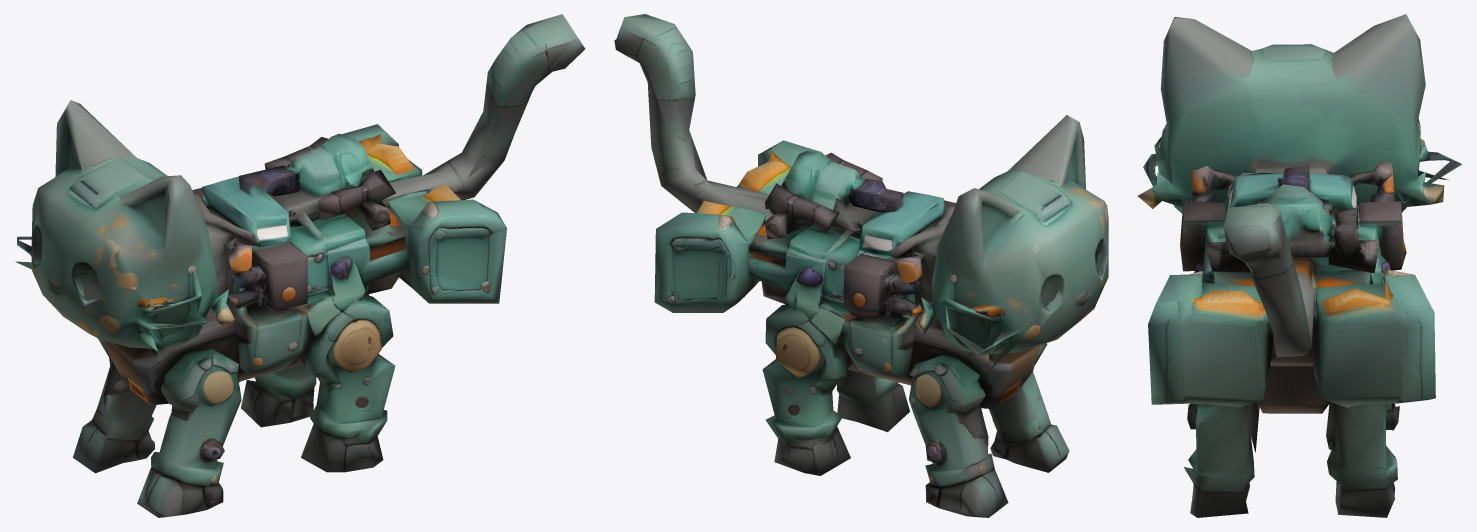
File: utility_catling_gun_3000.glb
3 renders of one model, left to right at view 1: azimuth 30°, elevation 25°; view 2: azimuth 150°, elevation 25°; view 3: azimuth 270°, elevation 25°, orthographic. The views are drawn at different scales.
Parts seen in each view (by area): view 1: tripo_node_239a1a10-e25d-47cd-a208-b8d1672d04fa; view 2: tripo_node_239a1a10-e25d-47cd-a208-b8d1672d04fa; view 3: tripo_node_239a1a10-e25d-47cd-a208-b8d1672d04fa.
Part boxes in pixels (left/top/right/bottom): tripo_node_239a1a10-e25d-47cd-a208-b8d1672d04fa: left=15, top=14, right=585, bottom=517; tripo_node_239a1a10-e25d-47cd-a208-b8d1672d04fa: left=614, top=14, right=1108, bottom=517; tripo_node_239a1a10-e25d-47cd-a208-b8d1672d04fa: left=1138, top=14, right=1462, bottom=517.
Bounding box in the file's own units: 0.9816 × 0.699 × 0.4865.
1 material, 1 textured.
